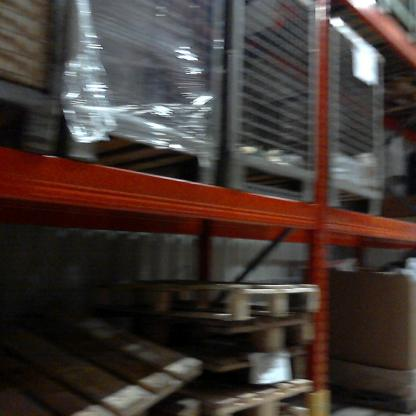pallet: (1, 315, 215, 413), (35, 281, 320, 325), (199, 315, 326, 365), (201, 352, 308, 404), (199, 383, 323, 413)
stillage: (63, 6, 243, 204), (223, 2, 325, 206), (318, 12, 396, 220), (1, 0, 69, 161), (369, 0, 414, 48)
